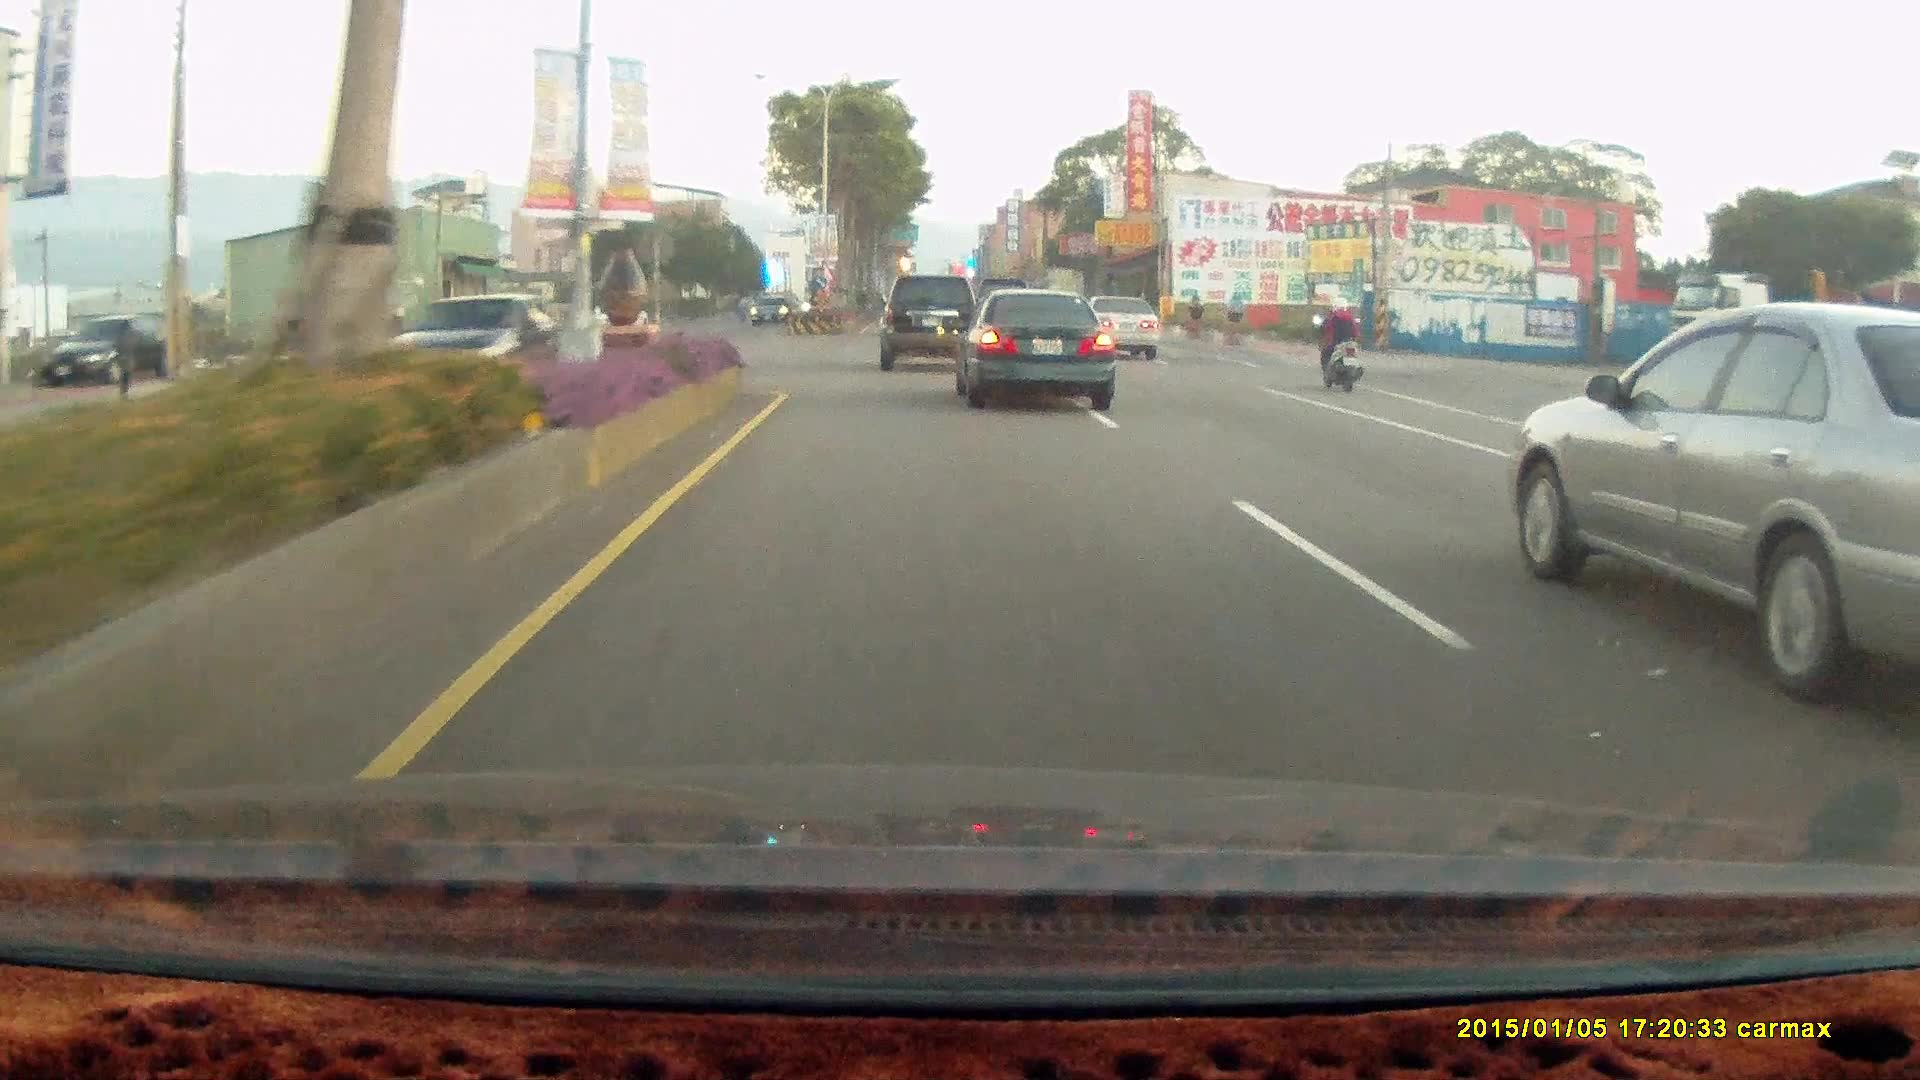pedestrian: (109, 318, 136, 393)
rider: (1303, 290, 1378, 402), (1308, 294, 1364, 391)
vehicle: (1514, 300, 1920, 704), (1664, 272, 1920, 379), (942, 291, 1107, 412), (961, 295, 1122, 416), (382, 290, 566, 393), (387, 294, 568, 393), (880, 274, 985, 374), (878, 274, 979, 371), (43, 313, 168, 389), (1078, 296, 1164, 363), (748, 297, 794, 330), (748, 294, 792, 325)
